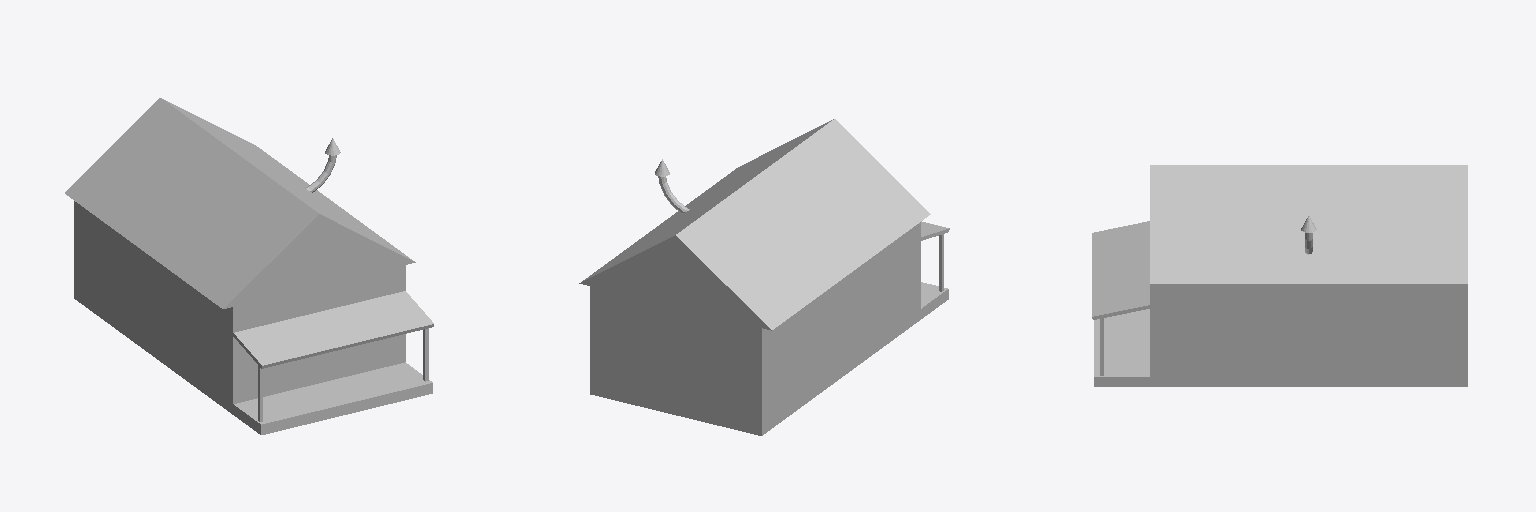
The model's file is ruralHouse3.obj.
3 views of the same model, side by side, from view 1: azimuth 30°, elevation 25°; view 2: azimuth 150°, elevation 25°; view 3: azimuth 270°, elevation 25° (orthographic).
Parts seen in each view (by area): view 1: RuralHouse3; view 2: RuralHouse3; view 3: RuralHouse3.
Part boxes in pixels (x1,y1,x2,y2): RuralHouse3: (65, 98, 433, 434); RuralHouse3: (579, 119, 949, 435); RuralHouse3: (1092, 165, 1467, 386).
Bounding box in the file's own units: 28.47 × 25 × 47.26.